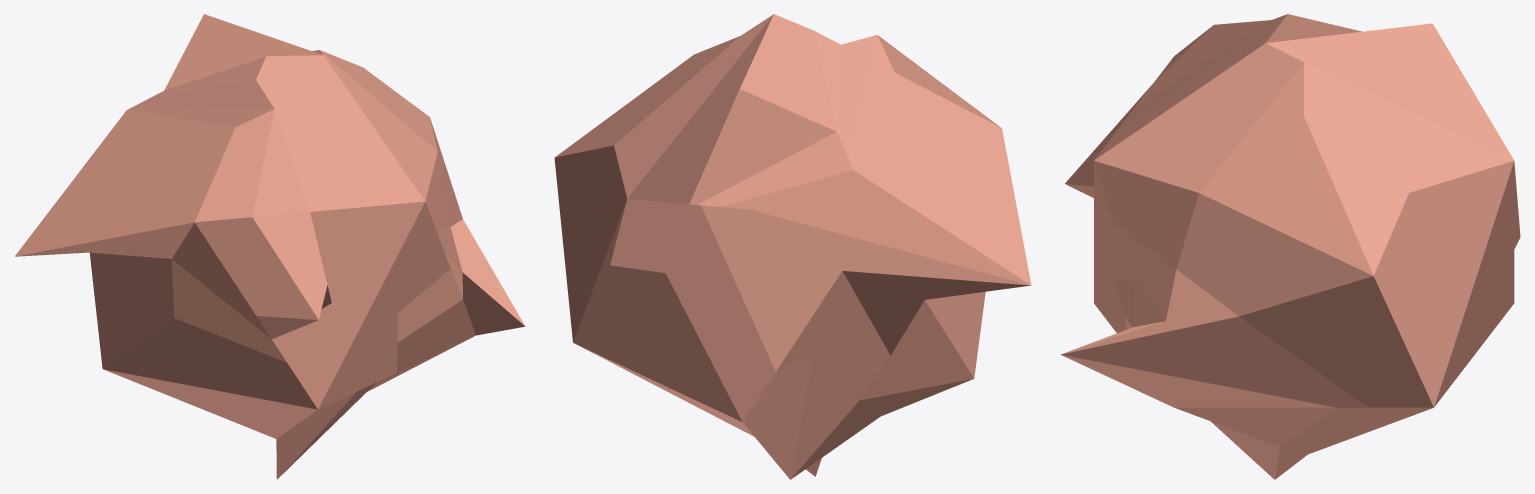
The model's file is chunk2.fbx.
3 renders of one model, left to right at view 1: azimuth 30°, elevation 25°; view 2: azimuth 150°, elevation 25°; view 3: azimuth 270°, elevation 25°, orthographic. The views are drawn at different scales.
Visible parts, largest first — view 1: Icosphere; view 2: Icosphere; view 3: Icosphere.
Boxes of the visible parts, box(x1,y1,x2,y2) form: Icosphere: box(15, 14, 525, 479); Icosphere: box(554, 14, 1031, 479); Icosphere: box(1061, 14, 1520, 479).
Bounding box in the file's own units: 221 × 207 × 186.
